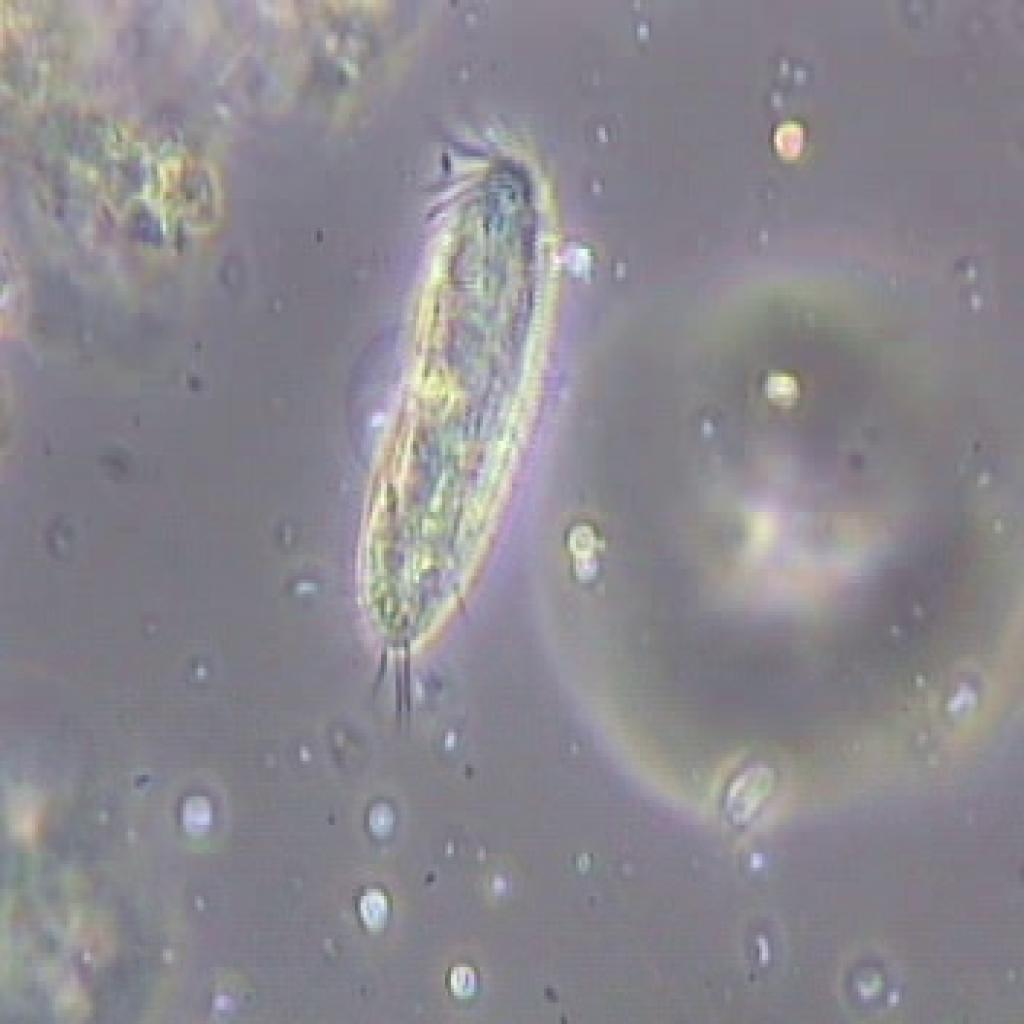Stylonychia: (323, 73, 570, 741)
